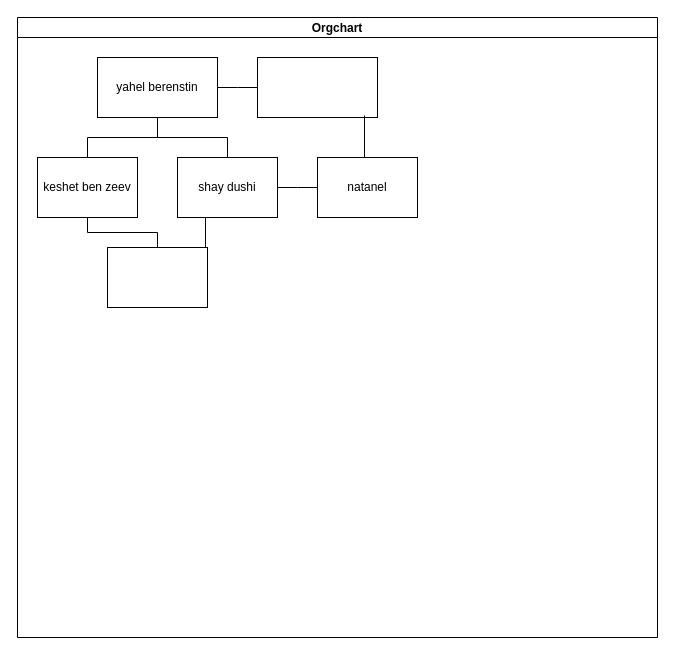
The diagram is 675 pixels wide and 655 high, and some of its shapes have lost their labels. Each missing label, with the centre of its shape:
idan: the point at 157,277
liam kayner: the point at 317,87
